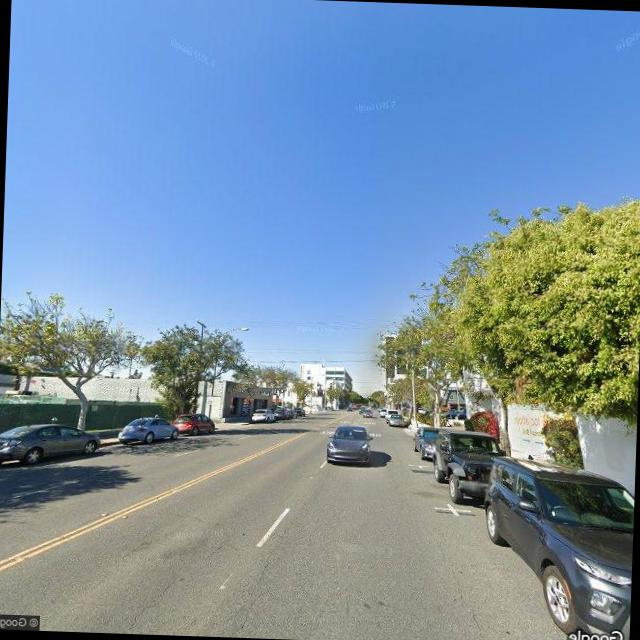crack: (224, 534, 284, 638), (123, 572, 184, 634), (206, 530, 240, 560)
